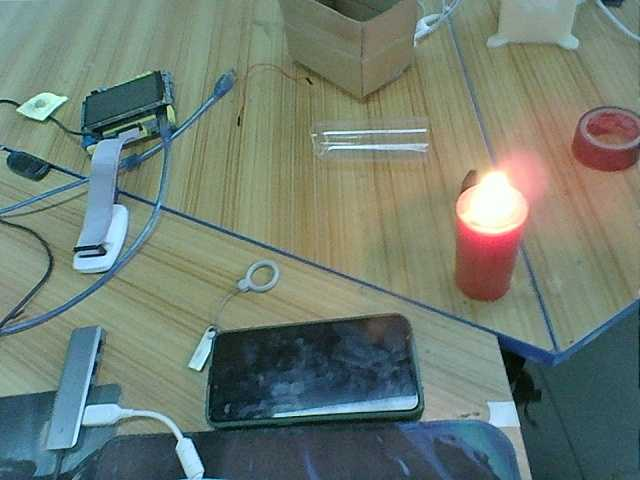candle: (453, 215, 522, 307)
fire: (453, 161, 532, 223)
